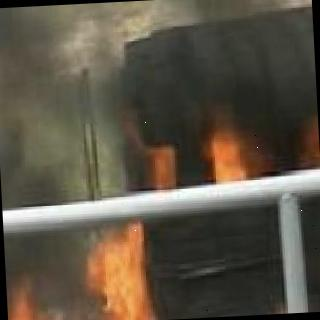fire: (8, 240, 175, 320), (151, 119, 320, 175), (313, 208, 320, 311)
